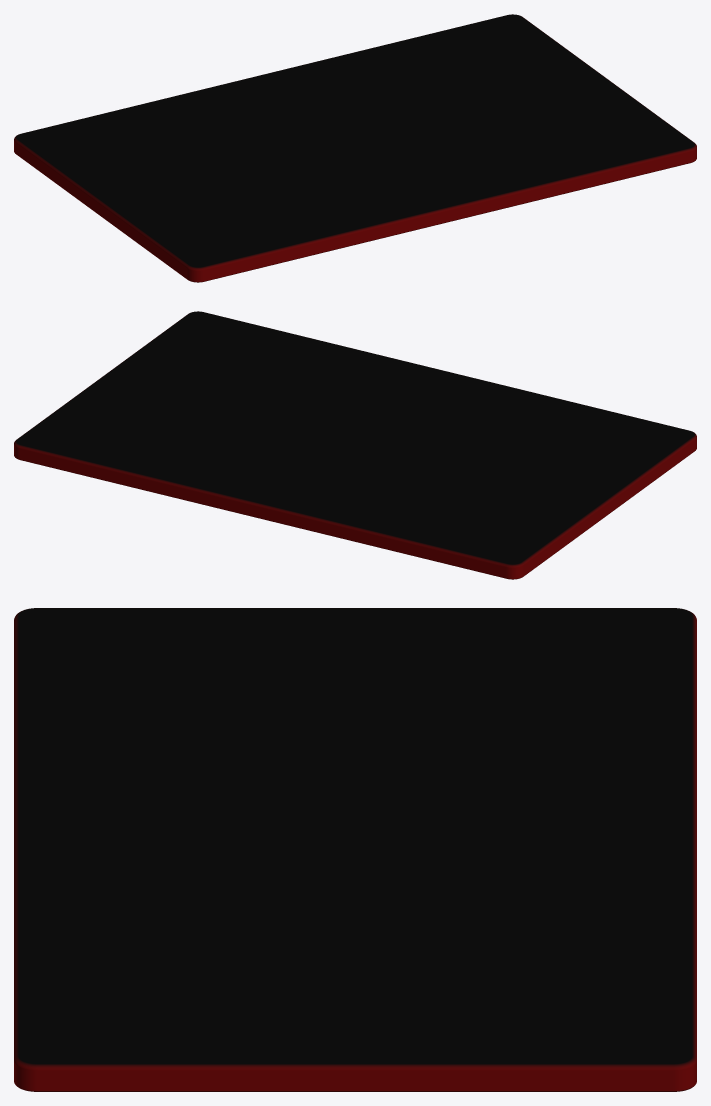
Rendered from workbench.gltf.
The picture shows the model from 3 angles, top to bottom: view 1: azimuth 30°, elevation 25°; view 2: azimuth 150°, elevation 25°; view 3: azimuth 270°, elevation 25°; orthographic projection. The views are drawn at different scales.
Visible parts, largest first — view 1: CabinWorkbench; view 2: CabinWorkbench; view 3: CabinWorkbench.
Boxes of the visible parts, x1,y1,x2,y2 form: CabinWorkbench: (14,14,696,282); CabinWorkbench: (14,311,696,579); CabinWorkbench: (14,608,696,1091).
Size of the model in its own units: 2.1 by 0.057 by 1.32.
